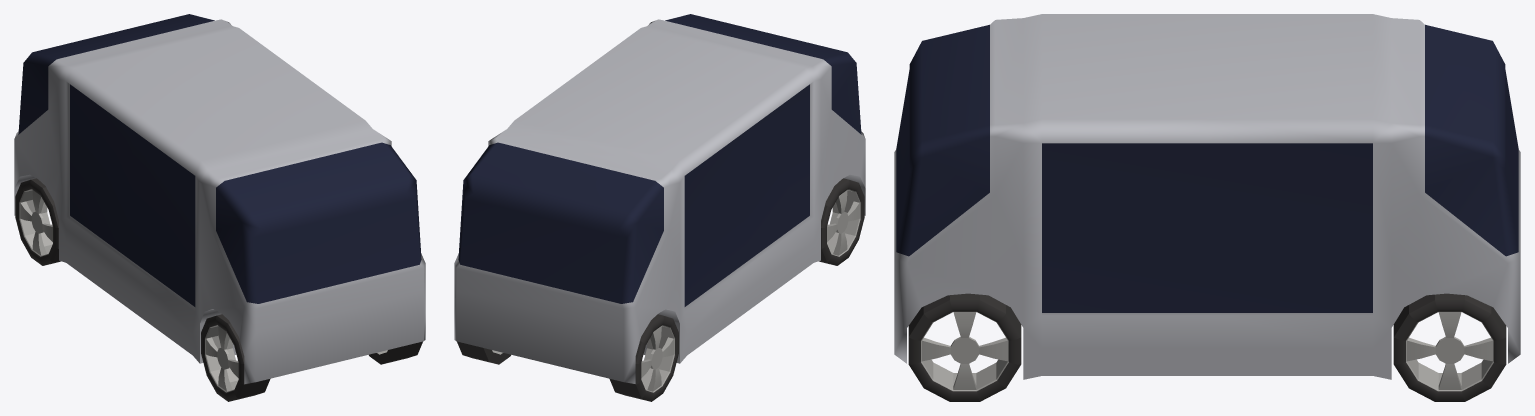
The model's file is Autonomous_Car.fbx.
3 renders of one model, left to right at view 1: azimuth 30°, elevation 25°; view 2: azimuth 150°, elevation 25°; view 3: azimuth 270°, elevation 25°, orthographic. The views are drawn at different scales.
Parts seen in each view (by area): view 1: Autonomous_Car; view 2: Autonomous_Car; view 3: Autonomous_Car.
Part boxes in pixels (x1,y1,x2,y2): Autonomous_Car: [14, 14, 425, 401]; Autonomous_Car: [454, 14, 865, 401]; Autonomous_Car: [894, 14, 1520, 401].
Bounding box in the file's own units: 9.95 × 11.14 × 22.69.
